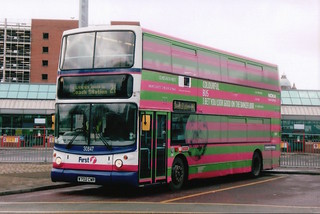bus: (50, 25, 281, 192)
